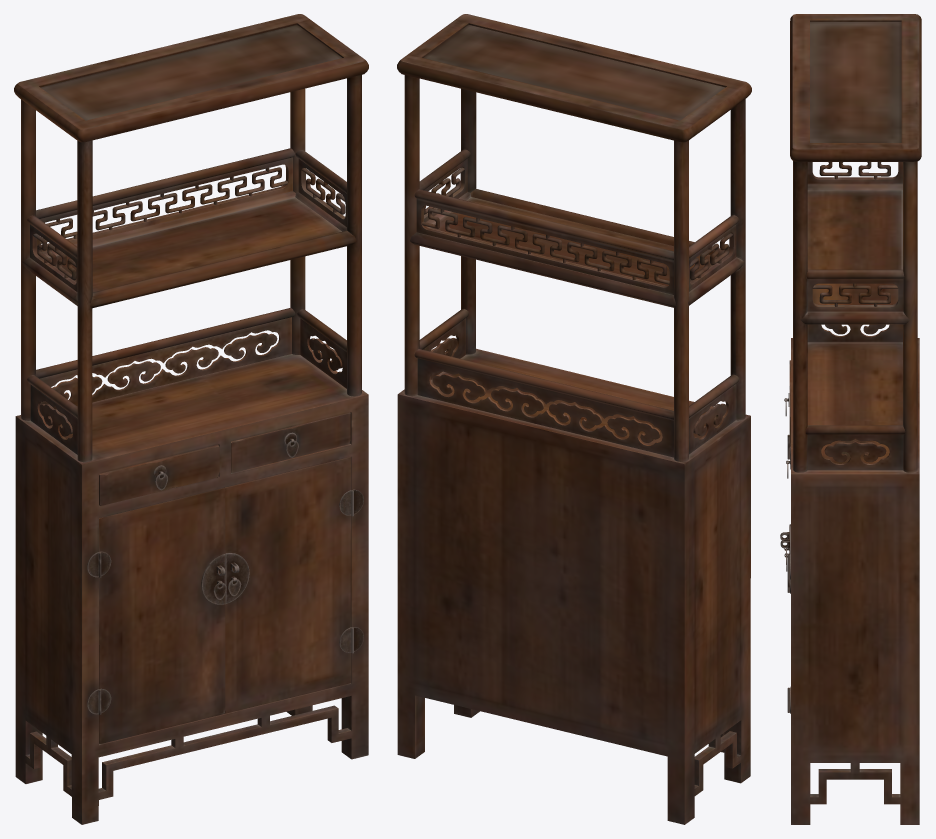
File: chinese_cabinet.glb
The picture shows the model from 3 angles, left to right: view 1: azimuth 30°, elevation 25°; view 2: azimuth 150°, elevation 25°; view 3: azimuth 270°, elevation 25°; orthographic projection. The views are drawn at different scales.
Visible parts, largest first — view 1: chinese_cabinet; view 2: chinese_cabinet; view 3: chinese_cabinet.
Boxes of the visible parts, x1,y1,x2,y2 form: chinese_cabinet: [14, 14, 368, 824]; chinese_cabinet: [397, 14, 751, 824]; chinese_cabinet: [780, 14, 921, 824].
Size of the model in its own units: 1.26 by 2.87 by 0.5452.
Materials: 1 (1 with a texture image).
